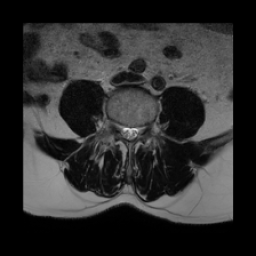CCS_normal: (127, 118, 132, 146)
LFS_normal: (139, 116, 146, 139)
LLS_normal: (132, 118, 139, 145)
RFS_normal: (113, 113, 120, 136)
RLS_normal: (120, 118, 127, 143)
